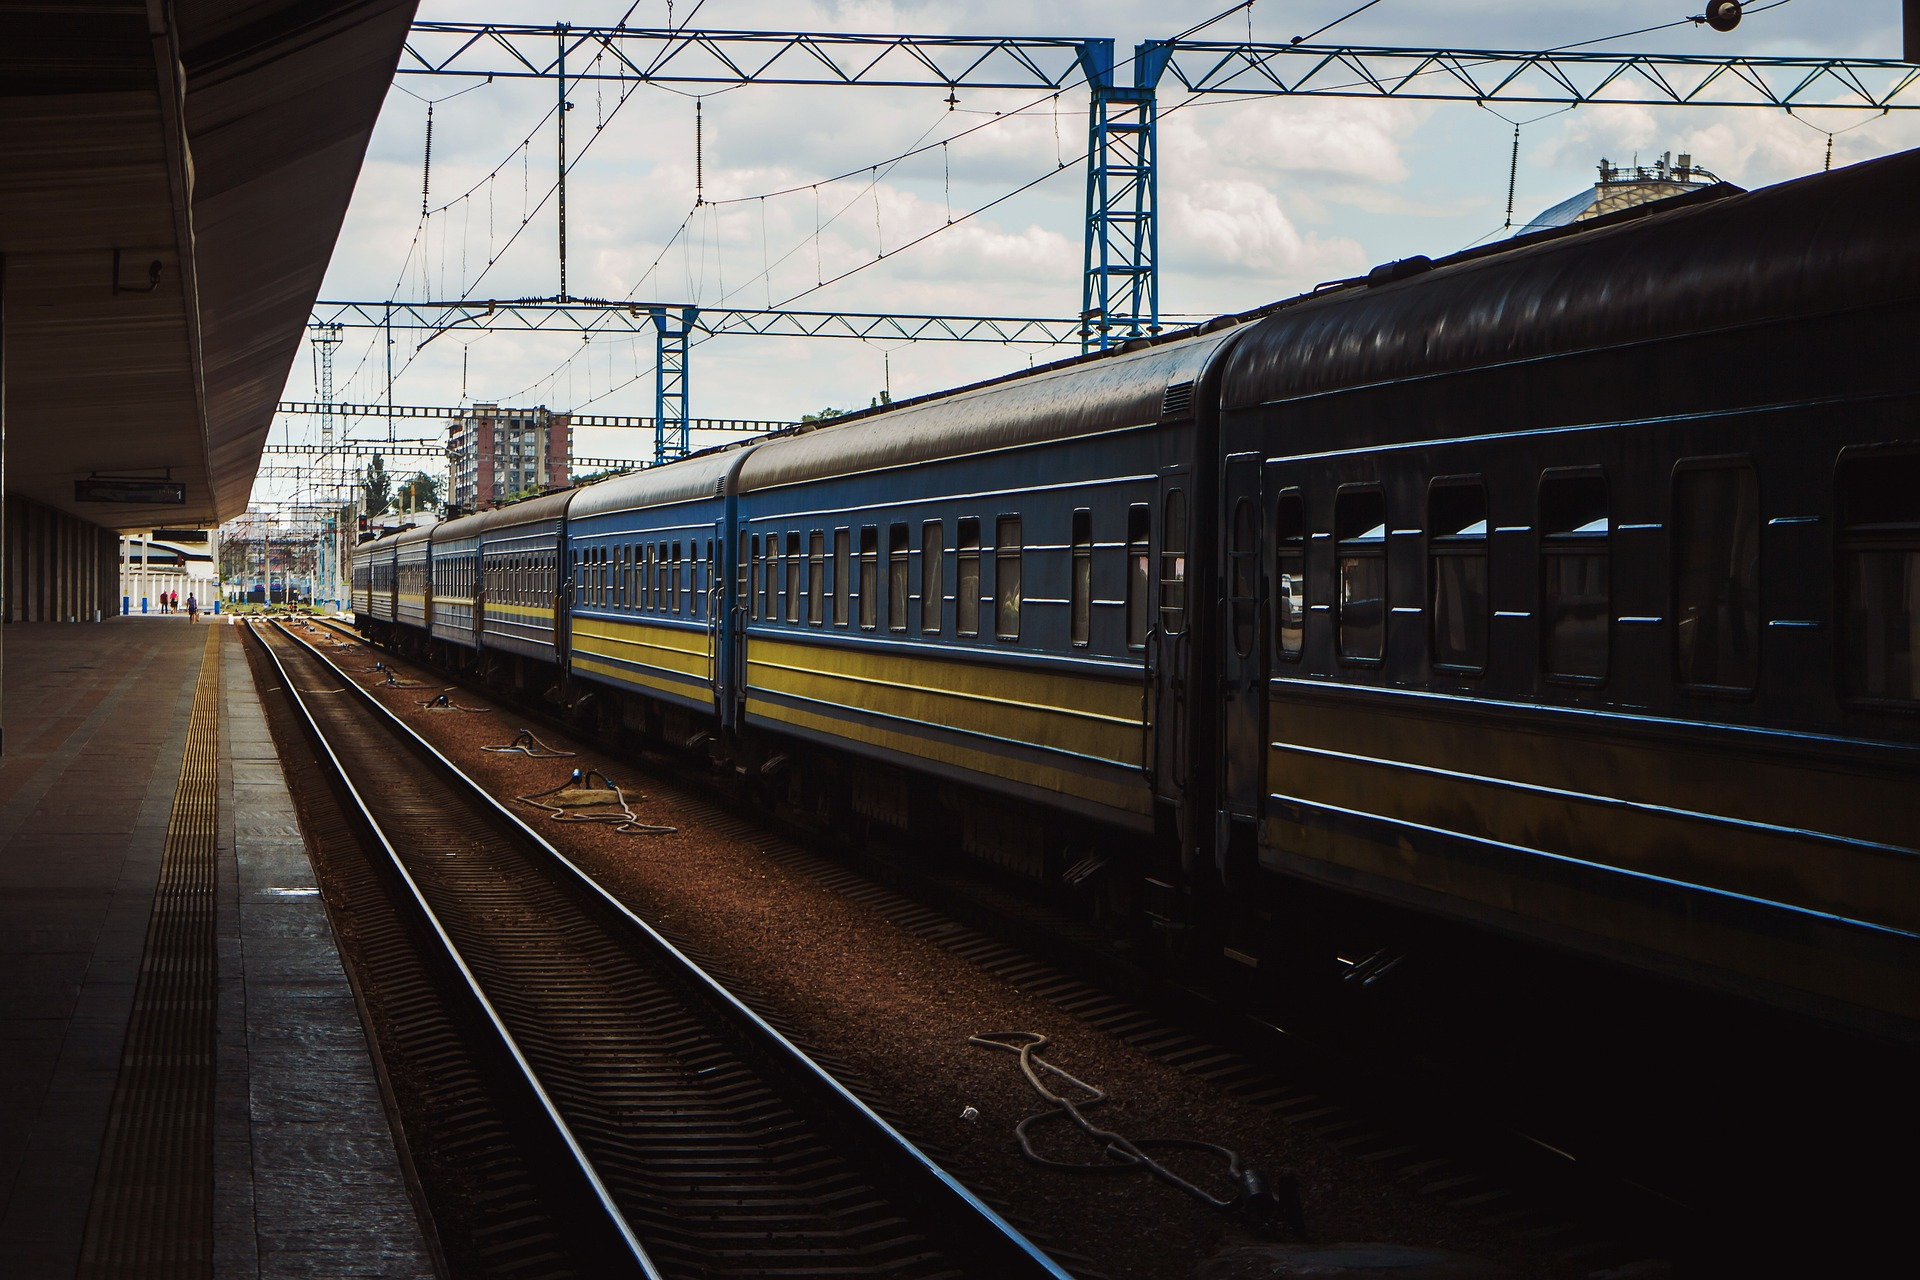train1: (343, 139, 1916, 1236)
